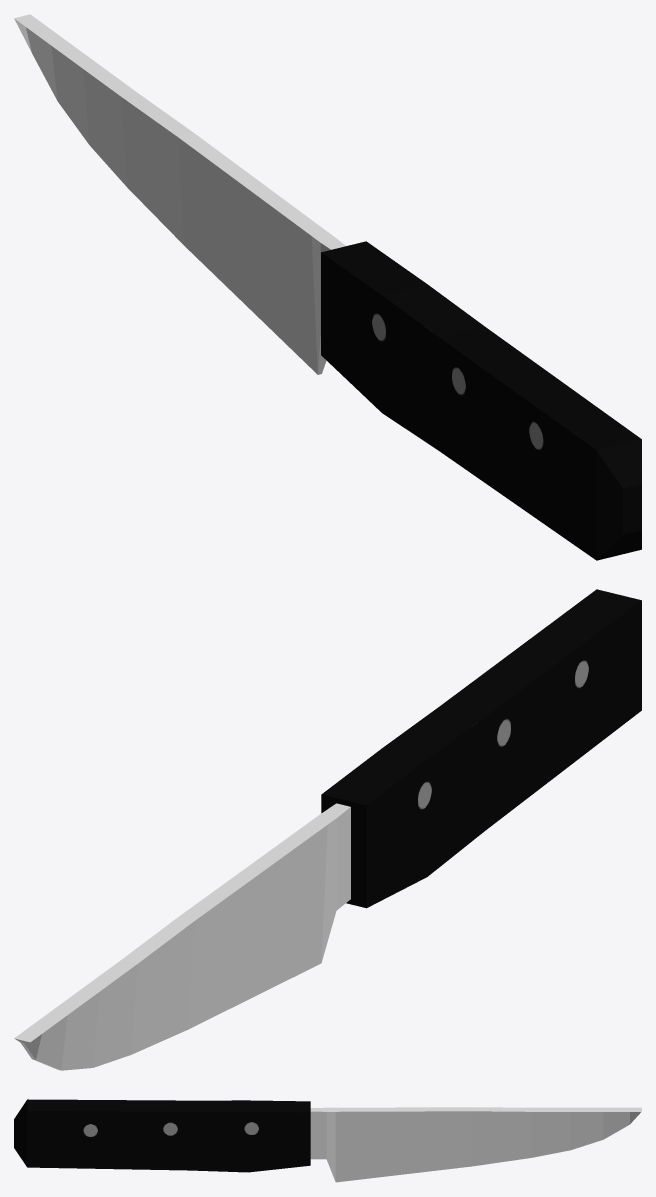
Rendered from knife.fbx.
The picture shows the model from 3 angles, top to bottom: view 1: azimuth 30°, elevation 25°; view 2: azimuth 150°, elevation 25°; view 3: azimuth 270°, elevation 25°; orthographic projection. The views are drawn at different scales.
Parts seen in each view (by area): view 1: Cube.001; view 2: Cube.001; view 3: Cube.001.
Part boxes in pixels (x1,y1,x2,y2): Cube.001: (14, 14, 641, 560); Cube.001: (14, 589, 641, 1070); Cube.001: (14, 1099, 641, 1182).
Bounding box in the file's own units: 85.98 × 271 × 2006.
